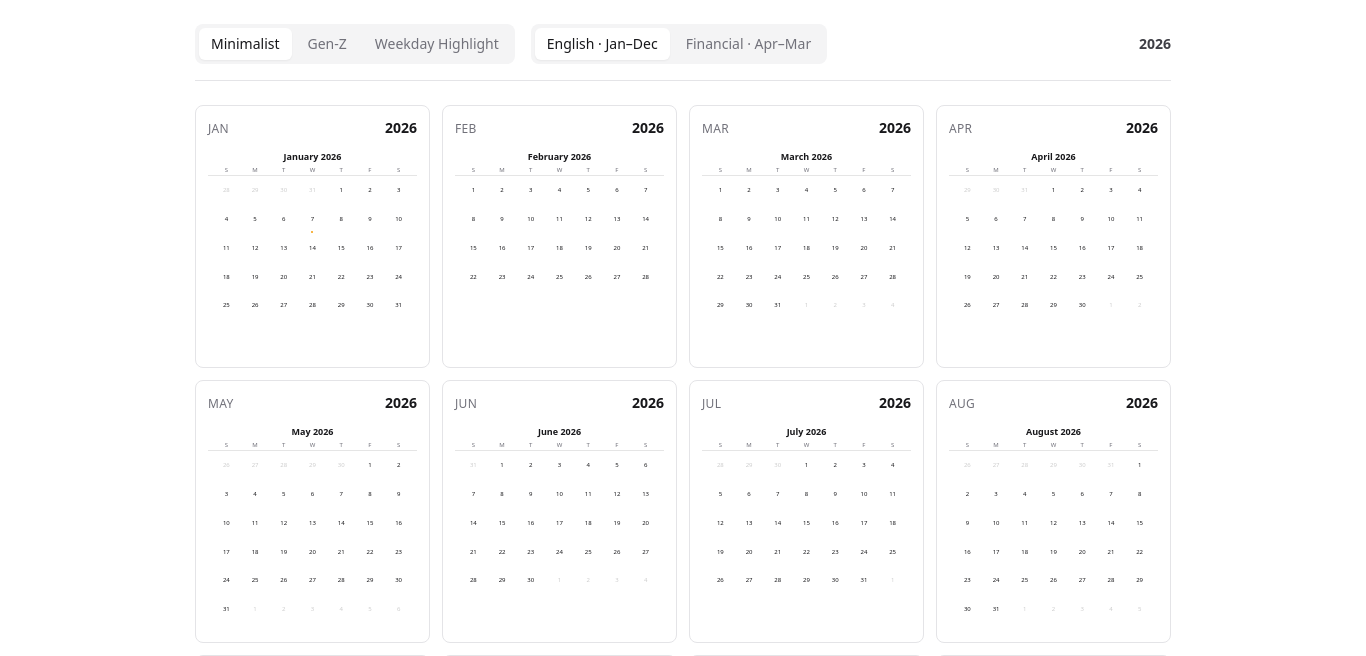
Test case: CalendarProductPreview — flip warning modal › modal text uses singular "entry" when only one entry would orphan
Click the button "Financial · Apr–Mar" at (748, 44), box [674,28,823,60]
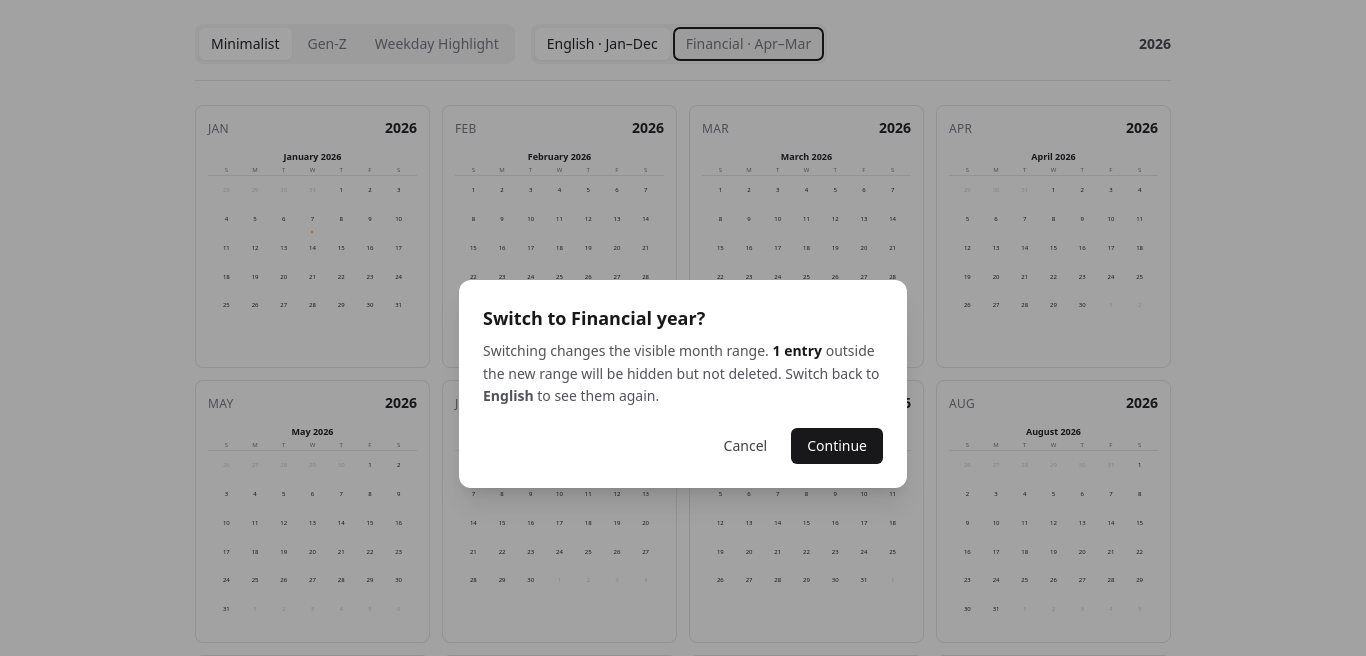
Now the text "1 entry" is shown, box [772,341,822,360]
